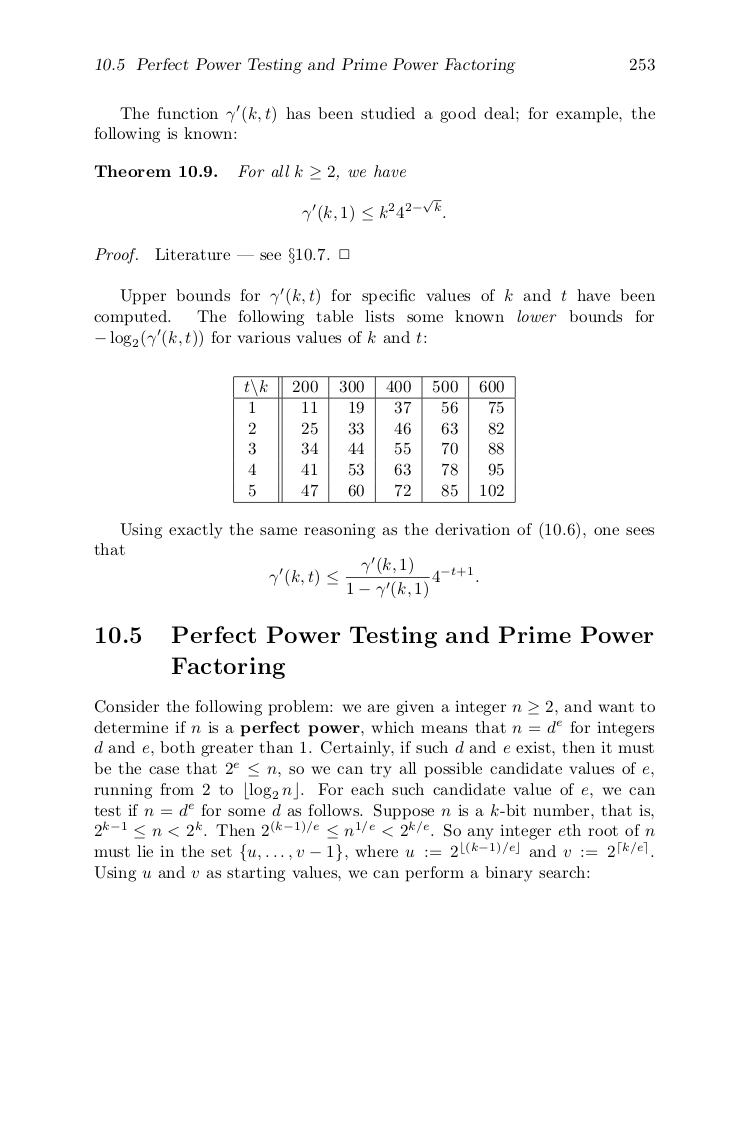Table: (233, 375, 515, 503)
formula: (269, 557, 478, 598), (302, 199, 445, 223)
